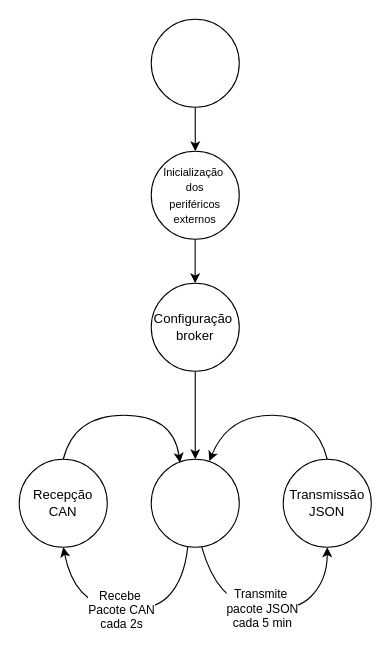
This 391x651 diagram has some shape labels left out. The box of each missing label's shape, as (x1, y1, x2, y2) in pixels:
Idle: (150, 458, 239, 547)
Inicialização periféricos internos: (150, 18, 239, 107)
